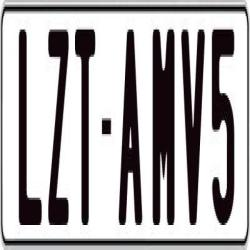5: (212, 25, 236, 227)
A: (119, 23, 142, 229)
L: (18, 27, 44, 228)
M: (151, 28, 174, 234)
T: (75, 30, 96, 236)
V: (181, 28, 206, 236)
Z: (48, 30, 68, 236)
